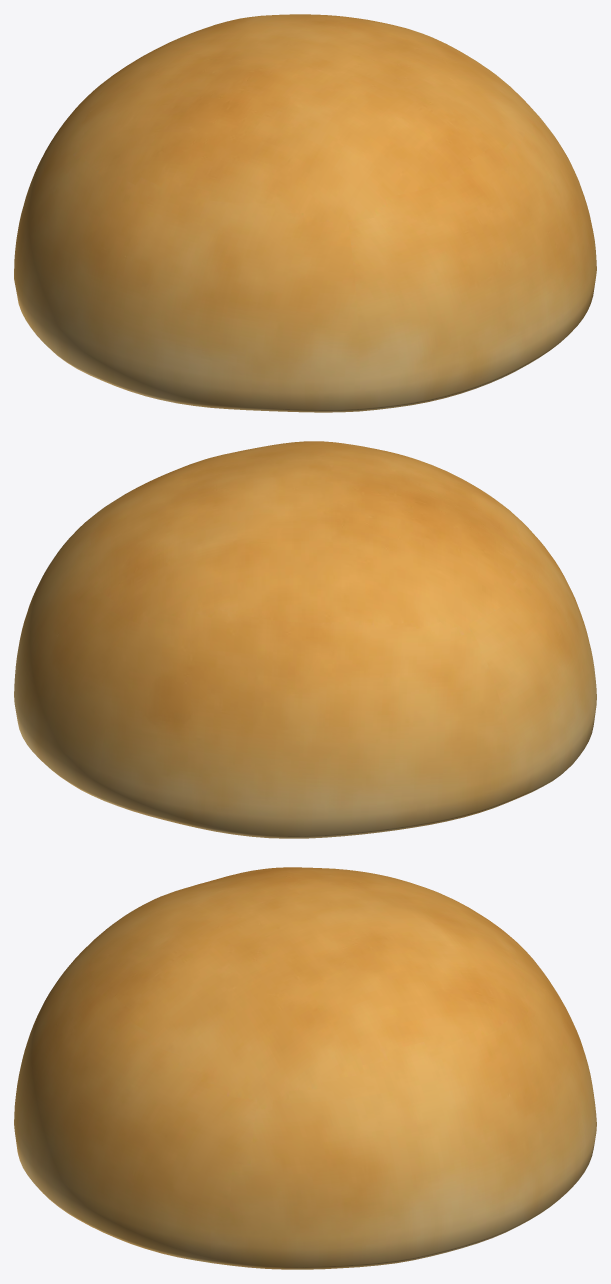
File: pan-tapa.glb
The picture shows the model from 3 angles, top to bottom: view 1: azimuth 30°, elevation 25°; view 2: azimuth 150°, elevation 25°; view 3: azimuth 270°, elevation 25°; orthographic projection.
Visible parts, largest first — view 1: pan-tapa; view 2: pan-tapa; view 3: pan-tapa.
Part boxes in pixels (x1,y1,x2,y2): pan-tapa: [14, 14, 596, 412]; pan-tapa: [14, 441, 596, 838]; pan-tapa: [14, 867, 596, 1269].
Bounding box in the file's own units: 2.06 × 0.9546 × 2.03.
Materials: 1 (1 with a texture image).
